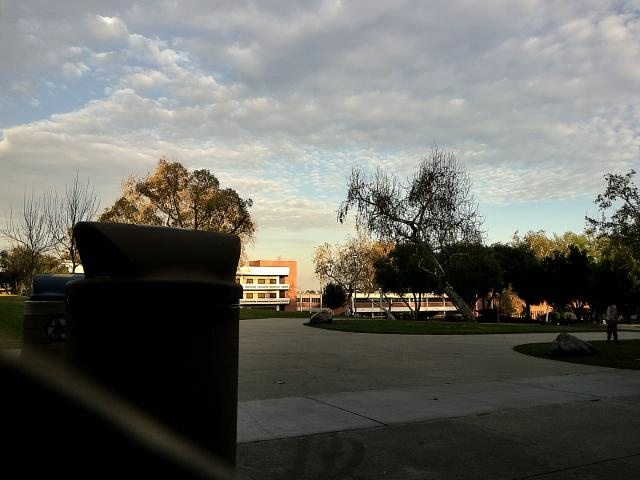trashcan: (67, 215, 251, 480), (24, 267, 92, 381)
